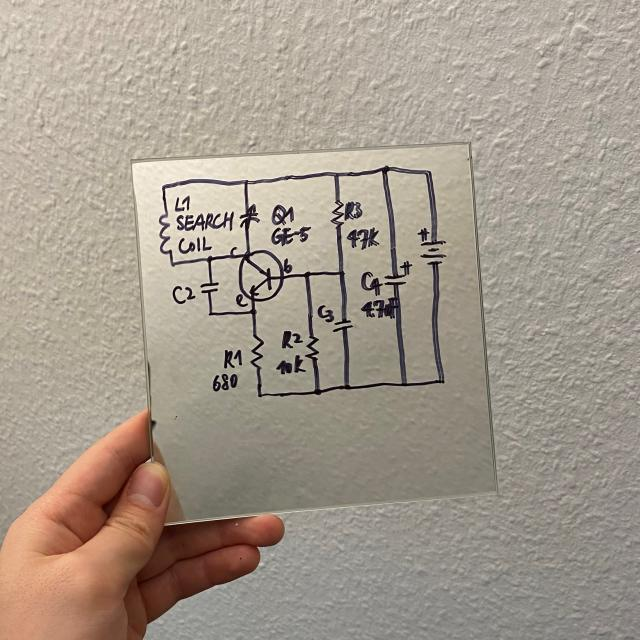capacitor: (379, 260, 413, 289), (238, 203, 260, 229), (331, 317, 354, 333), (199, 281, 219, 294)
inductor: (157, 212, 173, 255)
junction: (203, 252, 215, 265), (247, 305, 259, 318), (340, 380, 352, 393), (300, 269, 312, 281), (167, 257, 178, 269), (380, 163, 390, 176), (205, 308, 216, 319), (336, 268, 346, 279), (311, 386, 322, 396), (423, 168, 433, 178), (330, 170, 340, 180), (436, 376, 446, 386), (240, 177, 250, 187), (254, 389, 264, 399), (399, 379, 408, 389), (160, 183, 168, 191)
resistor: (248, 333, 266, 373), (328, 197, 348, 232), (304, 334, 320, 362)
source: (416, 226, 448, 266)
text: (175, 210, 235, 232), (345, 226, 381, 252), (271, 223, 311, 246), (360, 296, 399, 319), (177, 234, 212, 254), (270, 202, 296, 228), (274, 354, 306, 375), (360, 270, 383, 297), (211, 372, 240, 393), (170, 284, 196, 304), (342, 198, 364, 221), (280, 329, 304, 350), (222, 348, 242, 370), (316, 304, 334, 323), (173, 194, 190, 212), (234, 293, 249, 309), (281, 257, 294, 274), (229, 245, 238, 258)
transistor: (237, 248, 285, 302)
